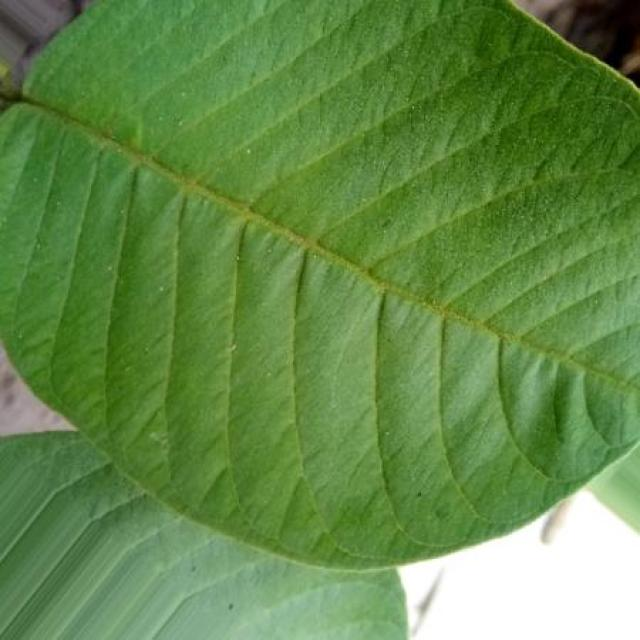Disease Free: (0, 0, 640, 639)
